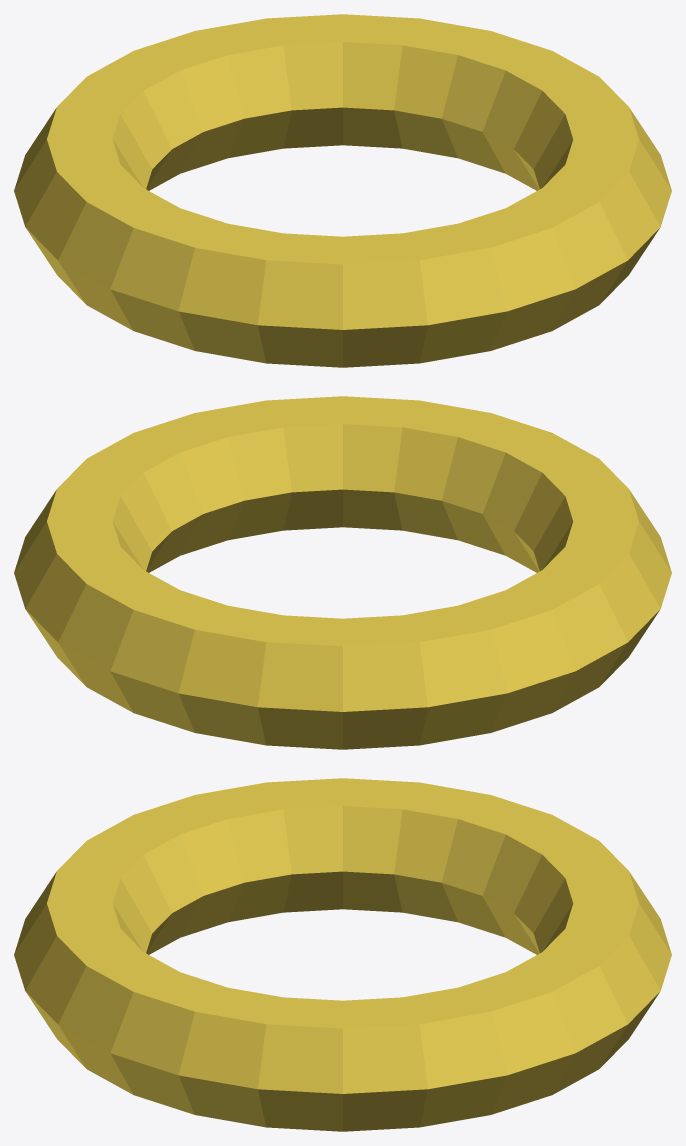
Rendered from hexring.obj.
3 views of the same model, one above another, from view 1: azimuth 30°, elevation 25°; view 2: azimuth 150°, elevation 25°; view 3: azimuth 270°, elevation 25° (orthographic).
Bounding box in the file's own units: 2.5 × 0.433 × 2.5.
